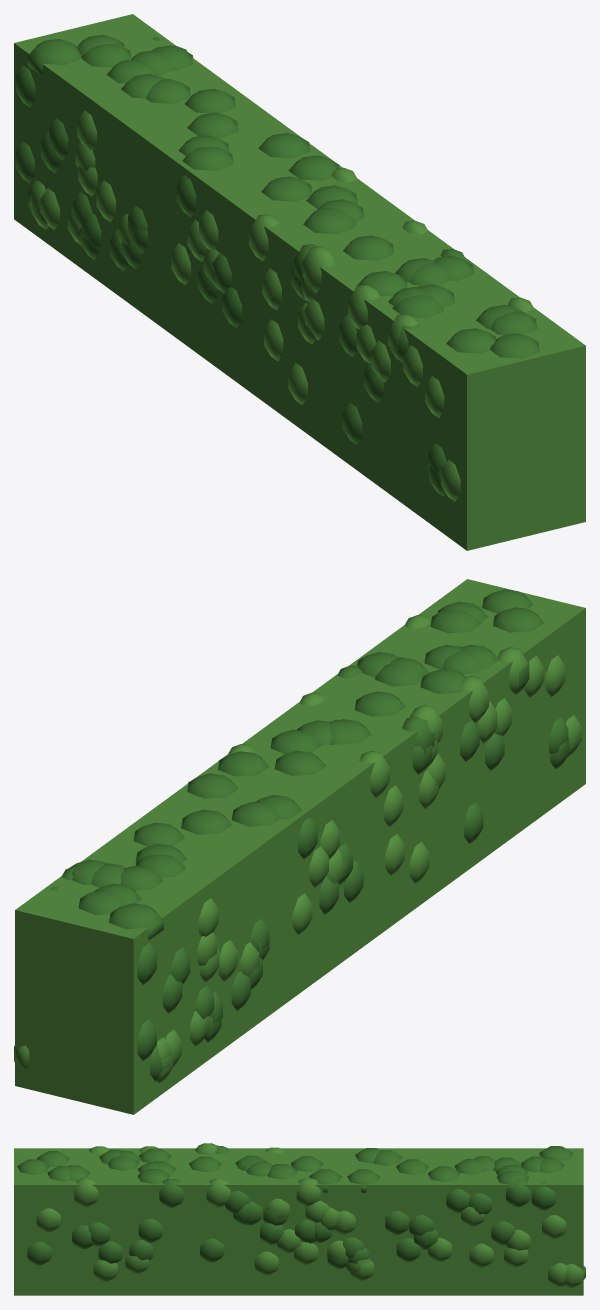
The model's file is hedge_4.glb.
The picture shows the model from 3 angles, top to bottom: view 1: azimuth 30°, elevation 25°; view 2: azimuth 150°, elevation 25°; view 3: azimuth 270°, elevation 25°; orthographic projection. The views are drawn at different scales.
Visible parts, largest first — view 1: hedge; view 2: hedge; view 3: hedge.
Boxes of the visible parts, left/top/right/bottom form: hedge: left=14, top=14, right=585, bottom=550; hedge: left=14, top=579, right=585, bottom=1114; hedge: left=14, top=1143, right=585, bottom=1295.
Size of the model in its own units: 0.6646 by 0.9089 by 3.98.
